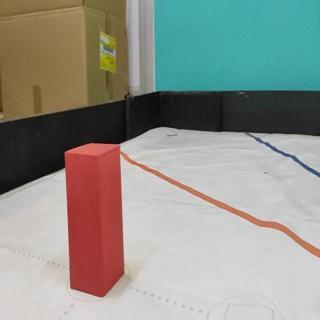redbox: (65, 141, 125, 298)
